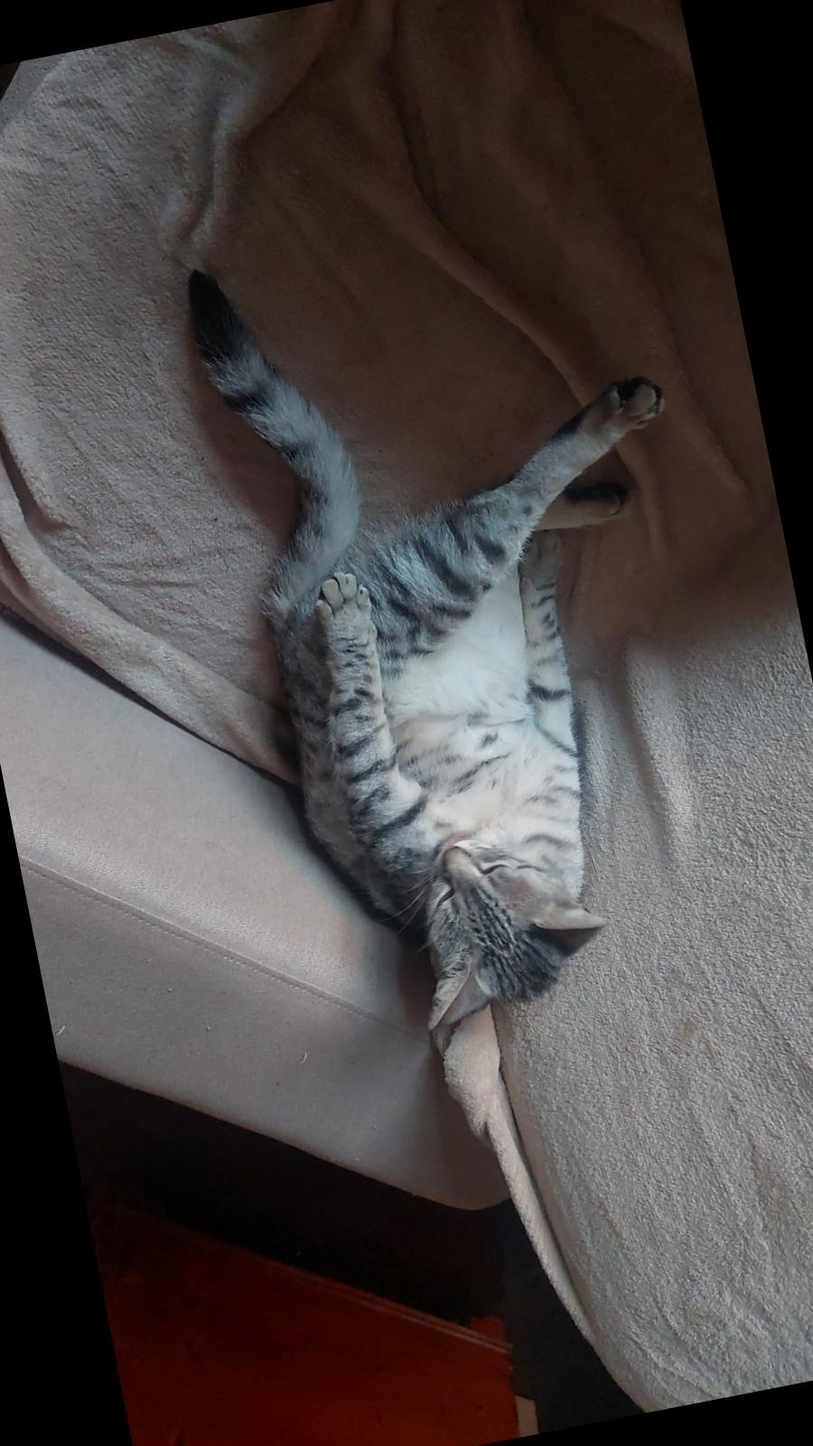macka: (184, 187, 780, 1050)
